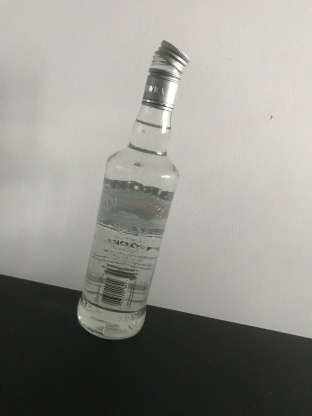nakretka: (139, 37, 191, 113)
